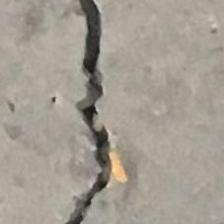Crack: (46, 0, 136, 224)
